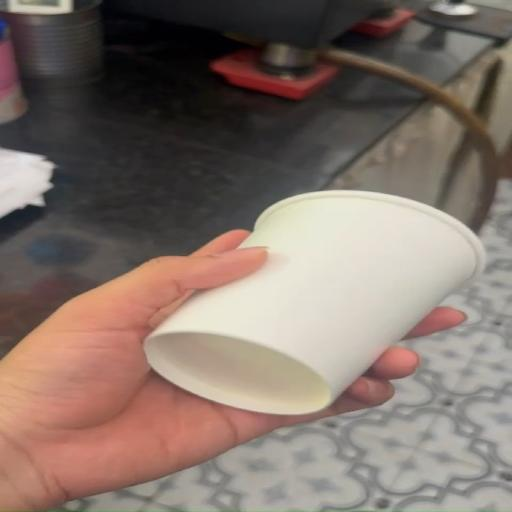Ly_giay: (145, 191, 484, 415)
